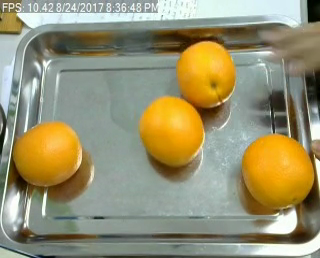Orange: (241, 134, 314, 208), (139, 95, 205, 167), (12, 120, 83, 185), (176, 41, 235, 108)
